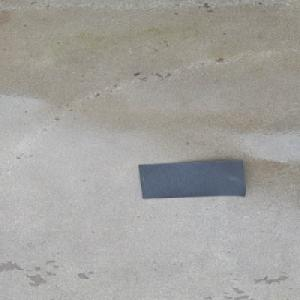PaintChip: (137, 160, 246, 199)
